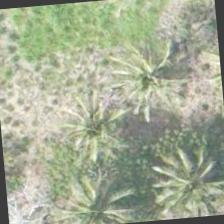Kelapa_Sawit: (50, 83, 148, 181), (99, 22, 196, 120), (145, 136, 223, 221), (47, 160, 144, 223)
